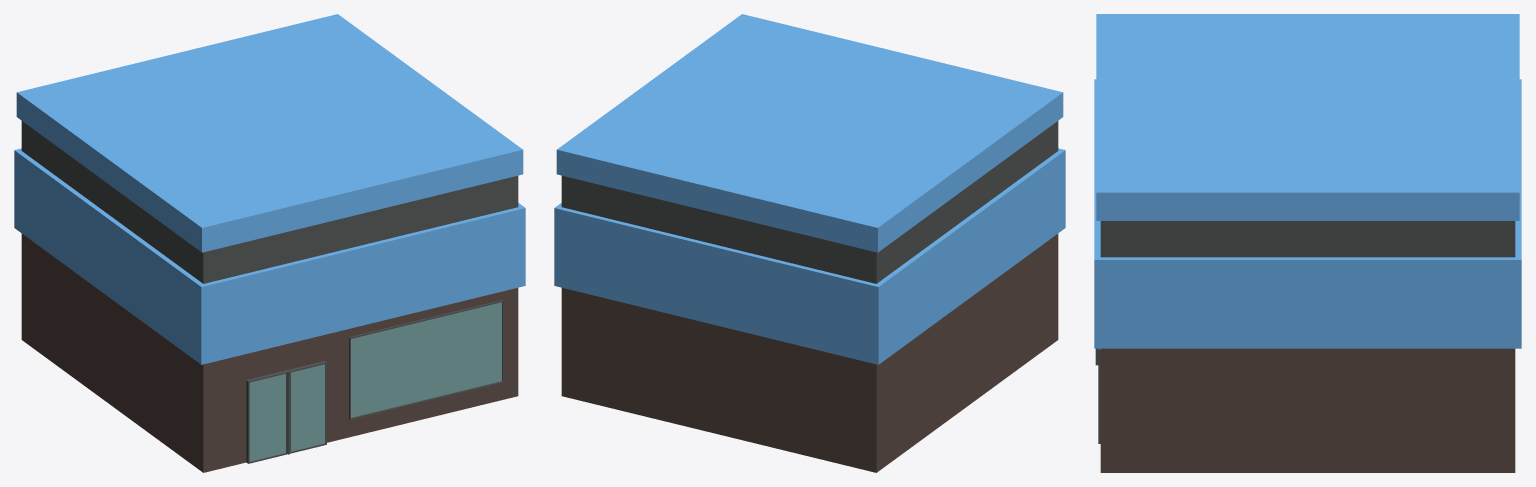
Rendered from Generic_Store_Front (1).fbx.
The picture shows the model from 3 angles, left to right: view 1: azimuth 30°, elevation 25°; view 2: azimuth 150°, elevation 25°; view 3: azimuth 270°, elevation 25°; orthographic projection. The views are drawn at different scales.
Visible parts, largest first — view 1: pCube61, pCube61_cell.028, pCube61_cell.031, pCube61_cell.035, pCube61_cell.027, pCube61_cell.029, pCube61_cell.014, pCube61_cell.004, pCube61_cell.016, pCube61_cell.025, pCube61_cell.037, pCube61_cell.008 (+4 smaller); view 2: pCube61, pCube61_cell.028, pCube61_cell.004, pCube61_cell.021, pCube61_cell.019, pCube61_cell.026; view 3: pCube61, pCube61_cell.026, pCube61_cell.028, pCube61_cell.023, pCube61_cell.018, pCube61_cell.037, pCube61_cell.022.
Boxes of the visible parts, box(x1,y1,x2,y2) form: pCube61: box(14, 14, 524, 472); pCube61_cell.028: box(16, 55, 265, 223); pCube61_cell.031: box(299, 167, 411, 348); pCube61_cell.035: box(405, 190, 520, 259); pCube61_cell.027: box(186, 228, 316, 322); pCube61_cell.029: box(387, 162, 523, 217); pCube61_cell.014: box(178, 193, 344, 239); pCube61_cell.004: box(109, 271, 250, 409); pCube61_cell.016: box(203, 307, 268, 421); pCube61_cell.025: box(428, 259, 493, 309); pCube61_cell.037: box(373, 150, 523, 194); pCube61_cell.008: box(202, 227, 316, 266); pCube61: box(554, 14, 1065, 472); pCube61_cell.028: box(722, 125, 970, 265); pCube61_cell.004: box(993, 192, 1065, 317); pCube61_cell.021: box(717, 240, 941, 325); pCube61_cell.019: box(714, 278, 964, 429); pCube61_cell.026: box(555, 231, 713, 321); pCube61: box(1094, 14, 1521, 472); pCube61_cell.026: box(1311, 289, 1515, 472); pCube61_cell.028: box(1309, 14, 1521, 170); pCube61_cell.023: box(1100, 348, 1310, 369); pCube61_cell.018: box(1311, 107, 1521, 259); pCube61_cell.037: box(1096, 192, 1310, 206); pCube61_cell.022: box(1100, 454, 1187, 472).
Size of the model in its own units: 206 by 150 by 206.
